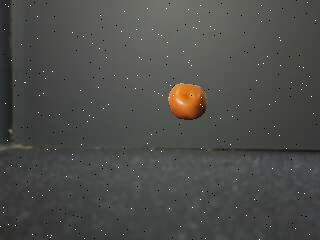Potato: (168, 83, 208, 121)
